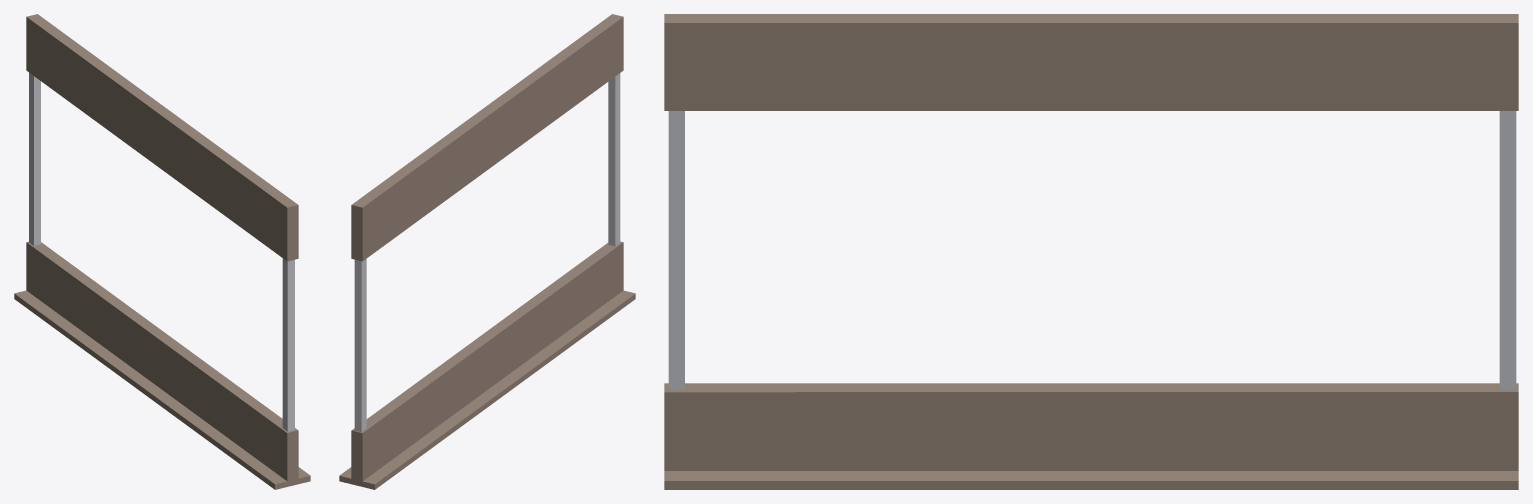
Rendered from locker_room_thingy_130.glb.
3 views of the same model, side by side, from view 1: azimuth 30°, elevation 25°; view 2: azimuth 150°, elevation 25°; view 3: azimuth 270°, elevation 25° (orthographic). The views are drawn at different scales.
Parts seen in each view (by area): view 1: part_131, part_134, part_135, part_132, part_133; view 2: part_131, part_134, part_135, part_133, part_132; view 3: part_131, part_134, part_135, part_133, part_132.
Part boxes in pixels (box(x1,y1,x2,y2)): part_131: box(26, 14, 298, 261); part_134: box(26, 241, 298, 481); part_135: box(14, 290, 310, 489); part_132: box(282, 258, 294, 431); part_133: box(29, 72, 40, 245); part_131: box(351, 14, 623, 261); part_134: box(351, 241, 623, 486); part_135: box(339, 290, 635, 489); part_133: box(354, 259, 366, 431); part_132: box(608, 73, 620, 246); part_131: box(664, 14, 1518, 110); part_134: box(664, 383, 1518, 470); part_135: box(664, 471, 1518, 489); part_133: box(1499, 111, 1516, 390); part_132: box(668, 111, 684, 390).
Size of the model in its own units: 0.8 by 5.99 by 10.15.
